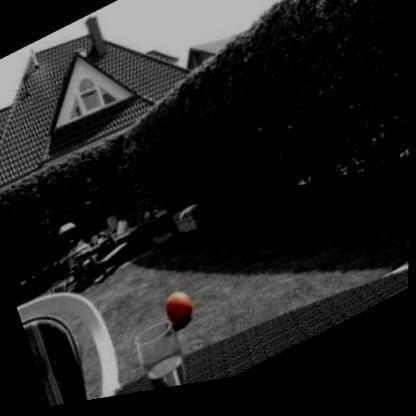basketball: (157, 287, 204, 345)
